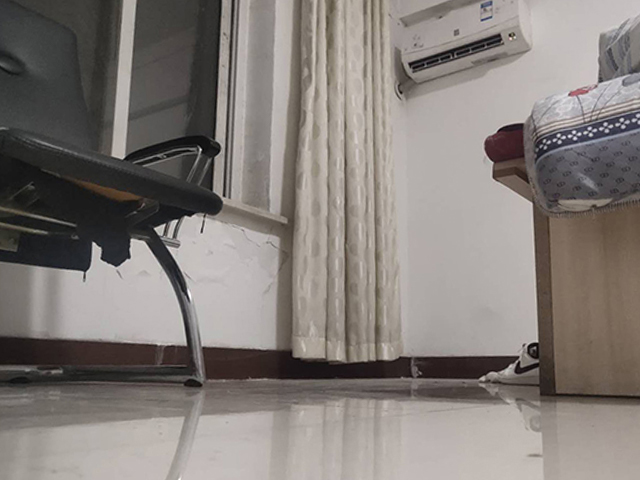bed: (482, 14, 640, 401)
curtain: (287, 1, 404, 366)
stool: (1, 1, 224, 388)
